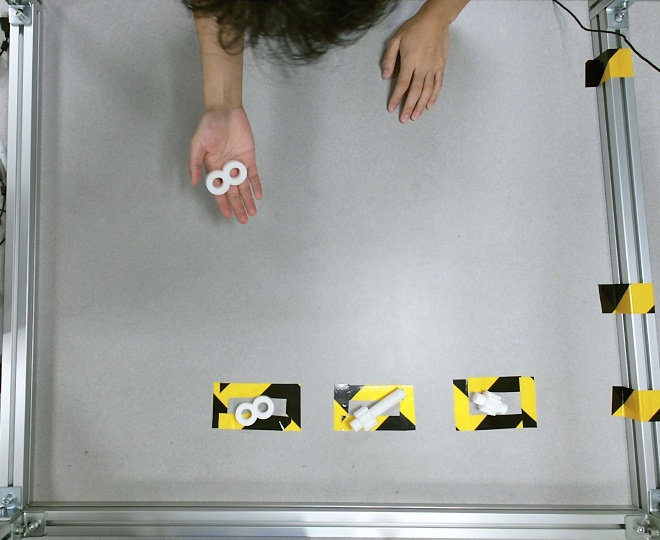stage_1: (205, 159, 247, 195)
